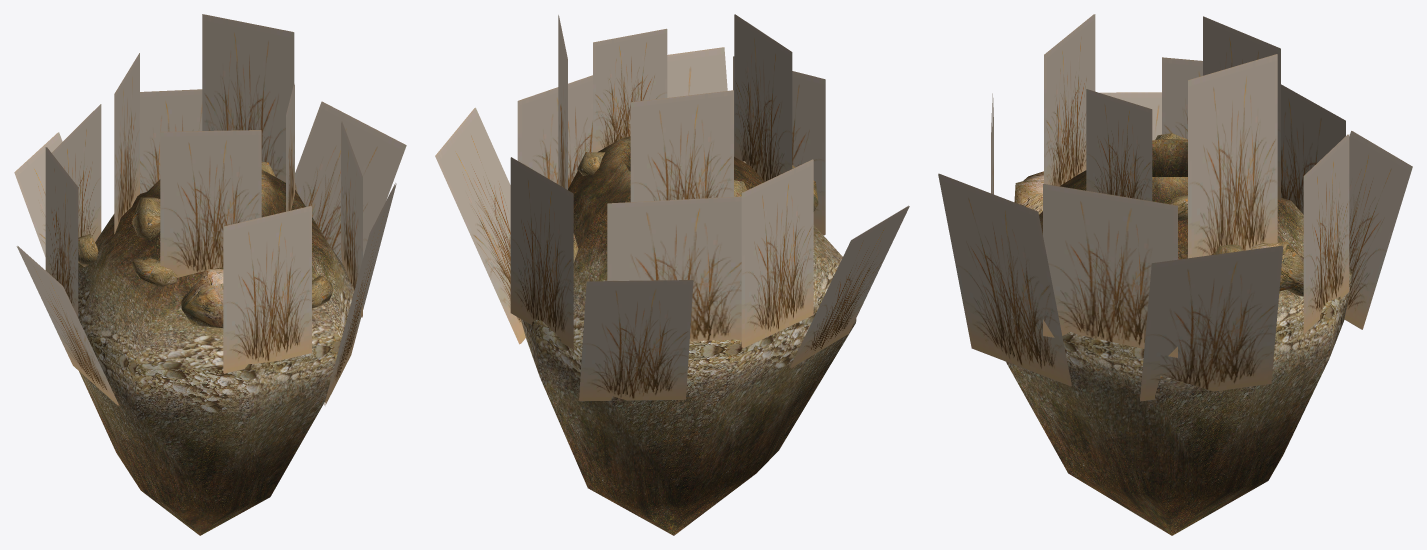
Rendered from poi_all_lair_antpile_dark_l0.fbx.
The picture shows the model from 3 angles, left to right: view 1: azimuth 30°, elevation 25°; view 2: azimuth 150°, elevation 25°; view 3: azimuth 270°, elevation 25°; orthographic projection. The views are drawn at different scales.
Visible parts, largest first — view 1: mesh_node; view 2: mesh_node; view 3: mesh_node.
Boxes of the visible parts, x1=… form: mesh_node: x1=14, y1=14, x2=406, y2=535; mesh_node: x1=435, y1=14, x2=909, y2=535; mesh_node: x1=938, y1=14, x2=1412, y2=535.
Bounding box in the file's own units: 6.11 × 7.32 × 6.19.
